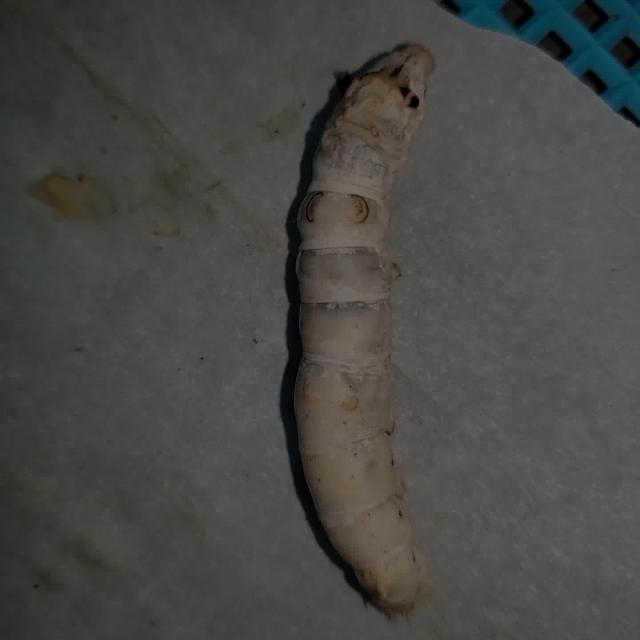Grasserie: (234, 10, 497, 640)
